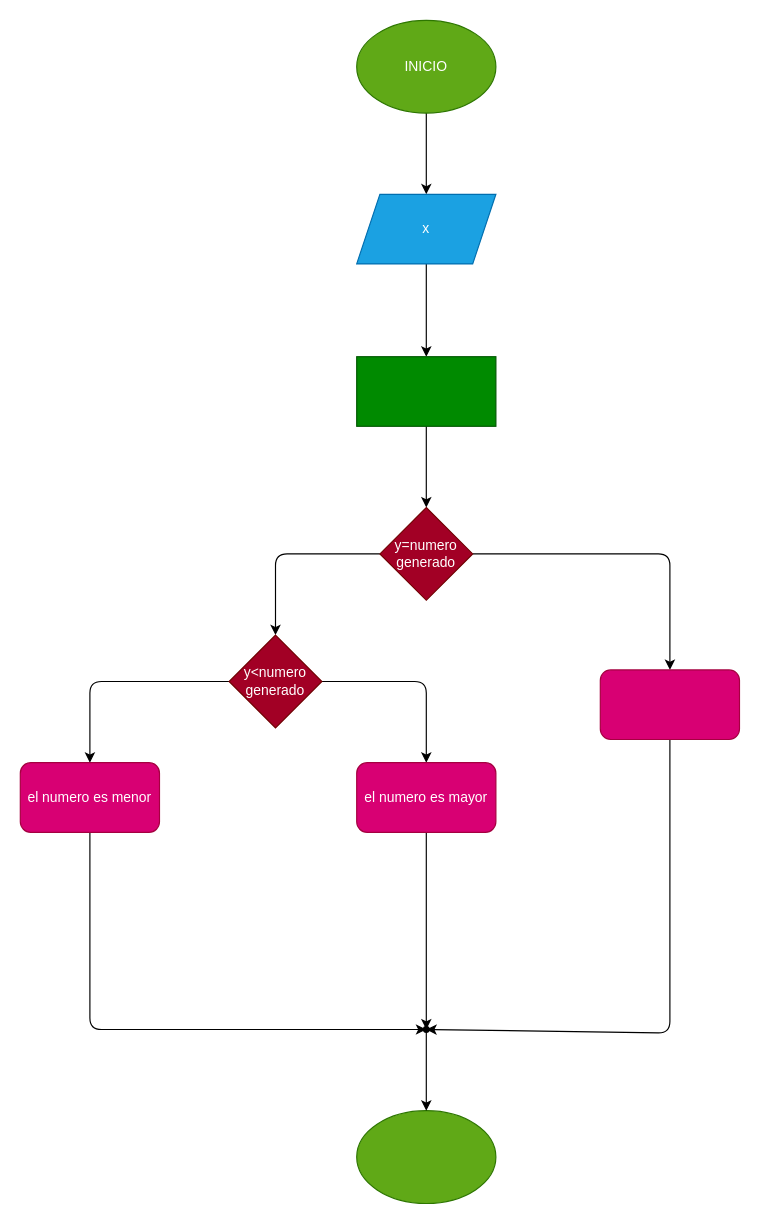
This 760x1224 diagram has some shape labels left out. Here are the shapes that lost their labels. From the top down, the centre of each, then its label:
At point 426,391: "genera un numero aleatorio".
At point 669,704: "¡acertaste!".
At point 426,1157: "FIN".
